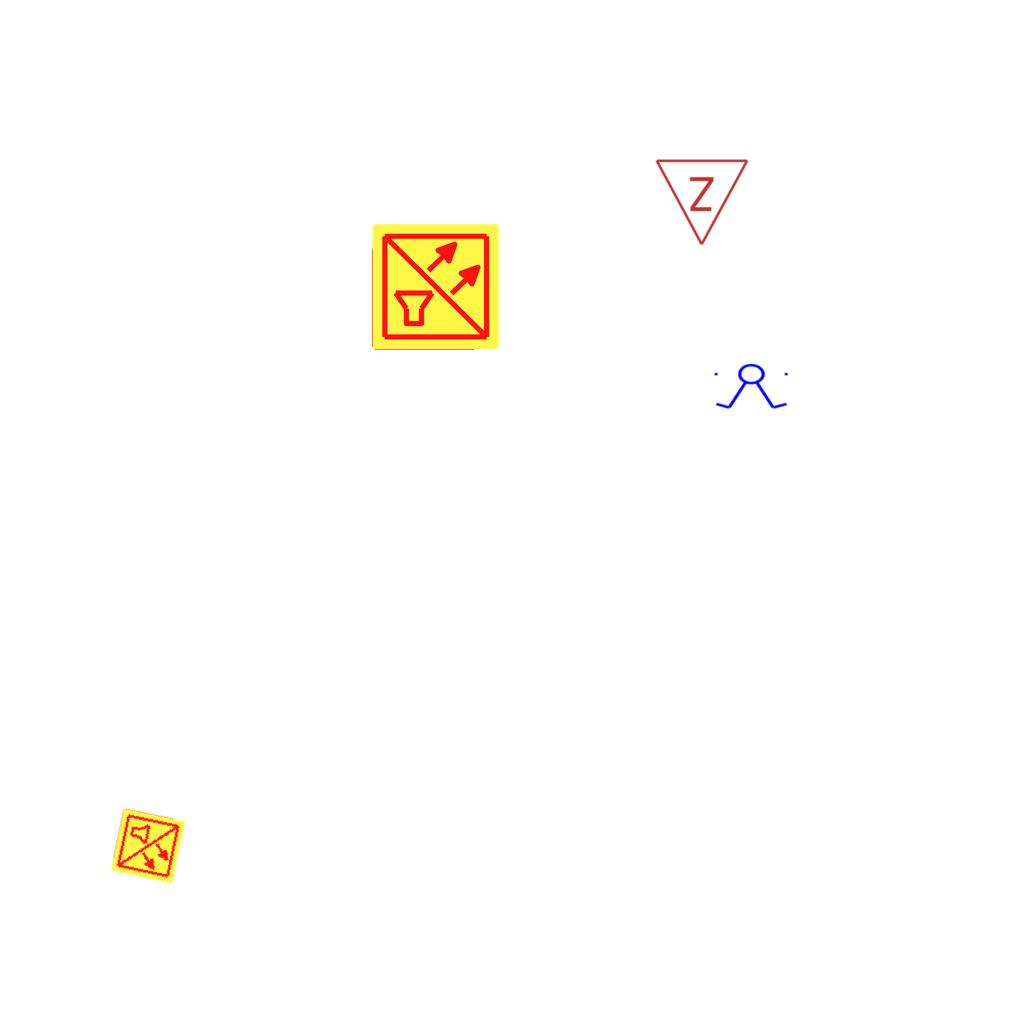OKW_Multisensormelder_(Kombination_optischer_Rauch-Kahlenmonoxid_Waerme-Melder): (370, 221, 502, 353), (108, 806, 188, 886)
Serienschalter: (710, 363, 794, 411)
Zimmersignalleuchte: (654, 152, 752, 252)
